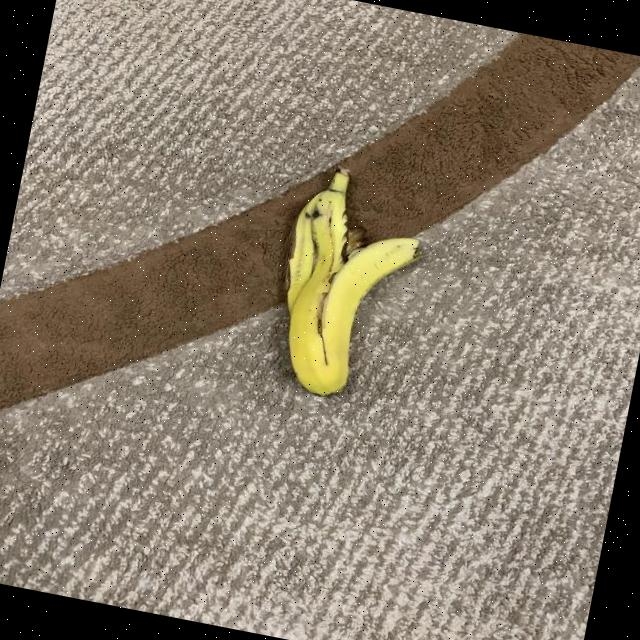banana-peel: (262, 160, 434, 410)
